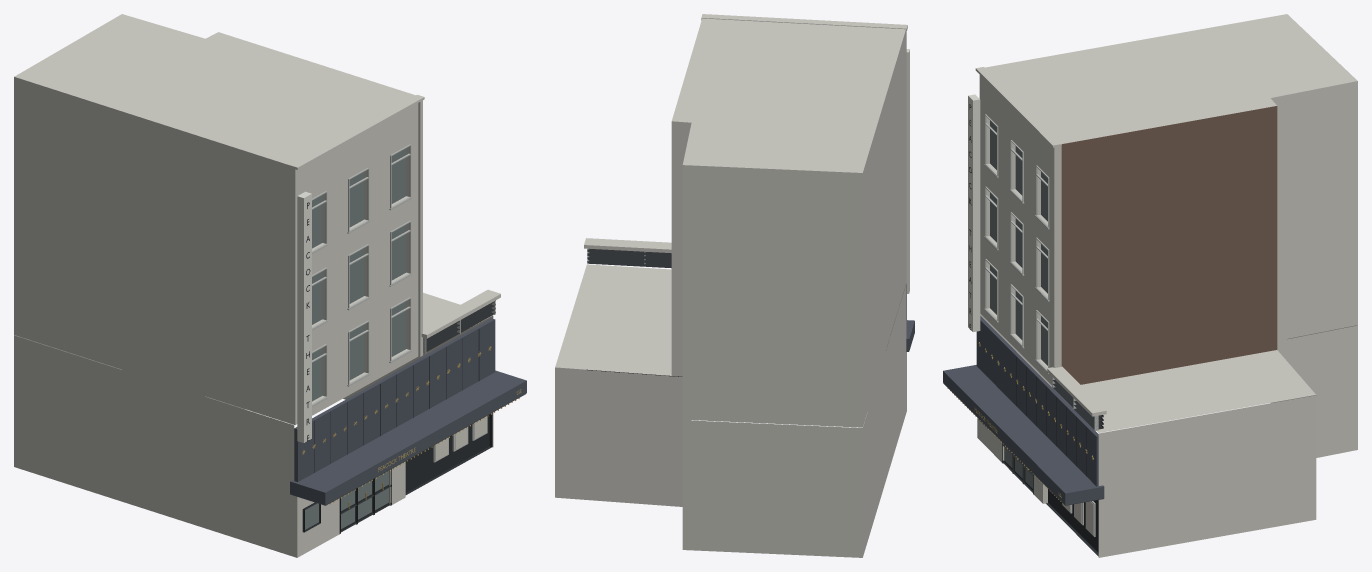
File: pea-exterior-7e69dadc5eef.glb
The picture shows the model from 3 angles, left to right: view 1: azimuth 30°, elevation 25°; view 2: azimuth 150°, elevation 25°; view 3: azimuth 270°, elevation 25°; orthographic projection. The views are drawn at different scales.
Parts seen in each view (by area): view 1: PEA.001; view 2: PEA.001; view 3: PEA.001.
Part boxes in pixels (left/top/right/bottom): PEA.001: left=14, top=14, right=526, bottom=557; PEA.001: left=555, top=14, right=914, bottom=557; PEA.001: left=943, top=14, right=1357, bottom=557.
Bounding box in the file's own units: 20.67 × 19.53 × 19.87.
